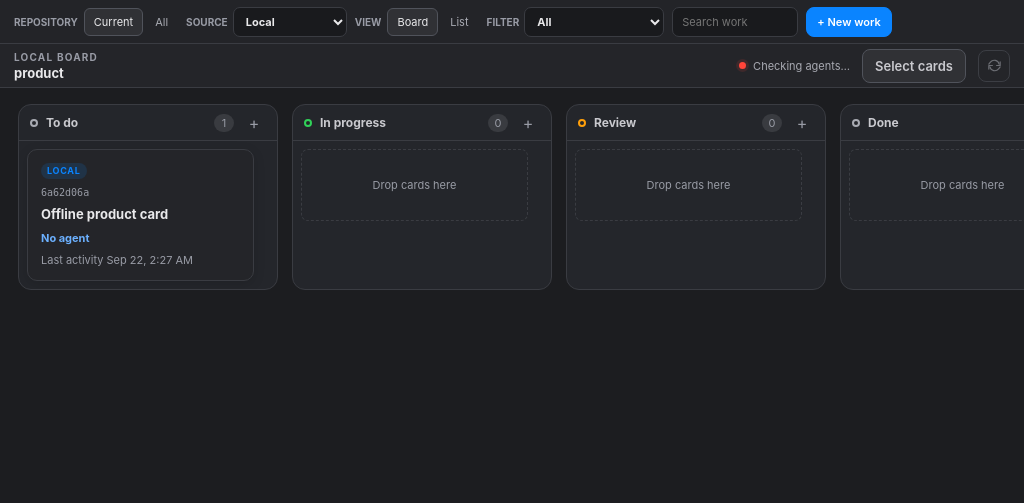
unified agent workspace › keeps local repository projections available without Hermes
Select "All sources" in the dropdown named "Work source" at (290, 22), box [233, 6, 347, 36]
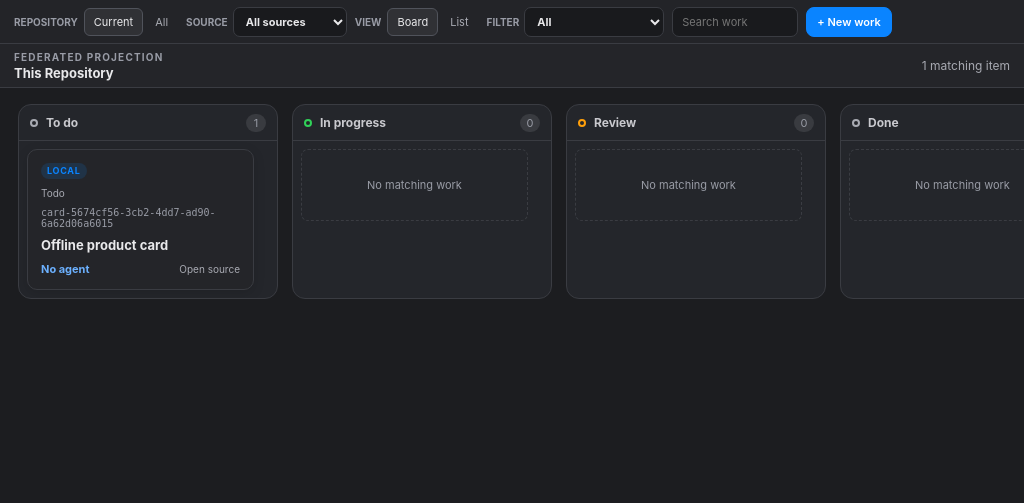
Expected: the text "Offline product card" is shown, [41, 237, 168, 253]
Expected: the text "Offline other card" is not shown
Click the button "All" at (162, 22), box [145, 8, 178, 36]
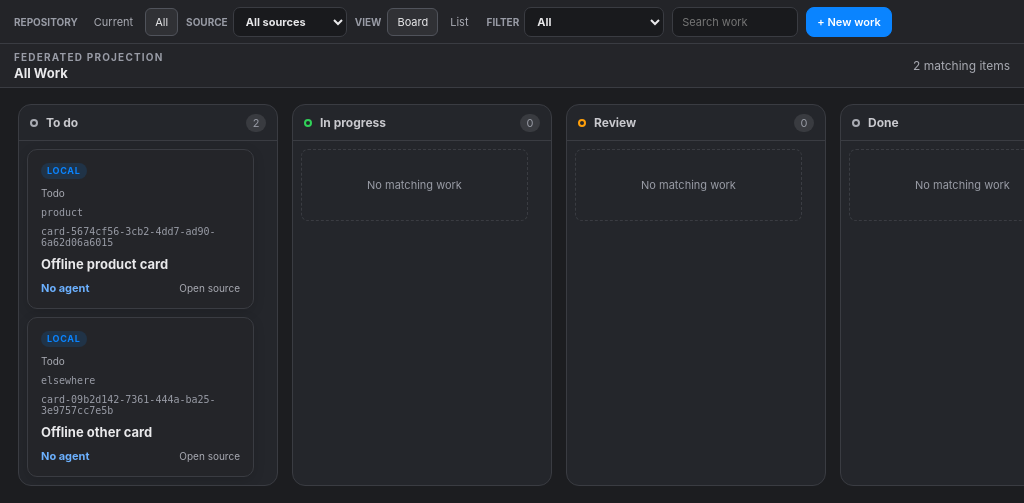
Expected: the text "Offline product card" is shown, [41, 256, 168, 272]
Now the text "Offline other card" is shown, box [41, 424, 152, 440]
